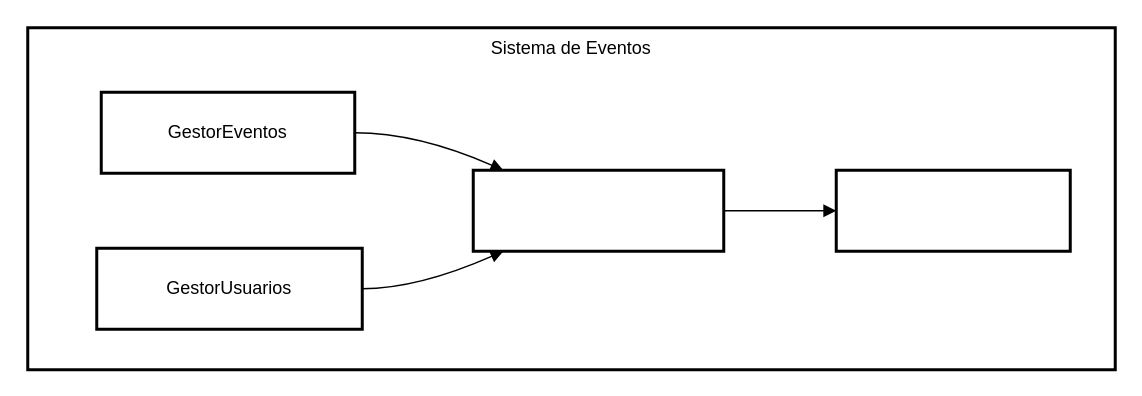
The diagram is 1142 pixels wide and 396 high, and some of its shapes have lost their labels. Each missing label, with the centre of its shape:
GestorBoletos: (597,210)
GestorPagos: (952,210)
